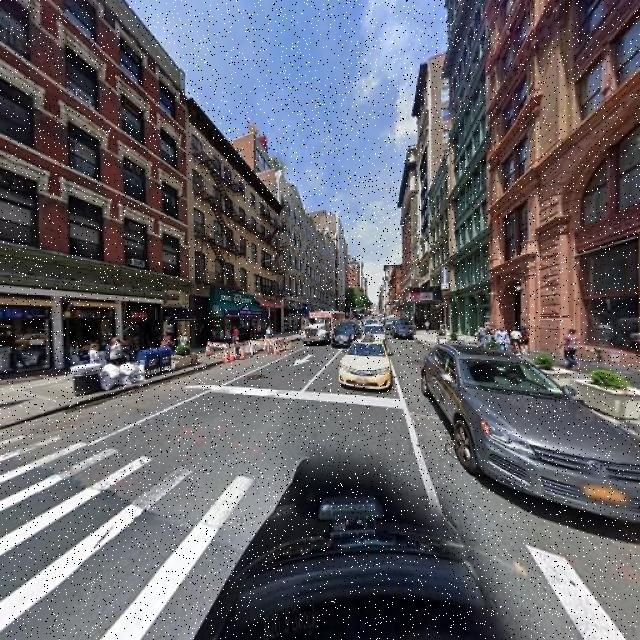Building: (1, 1, 185, 374), (492, 1, 640, 372)
